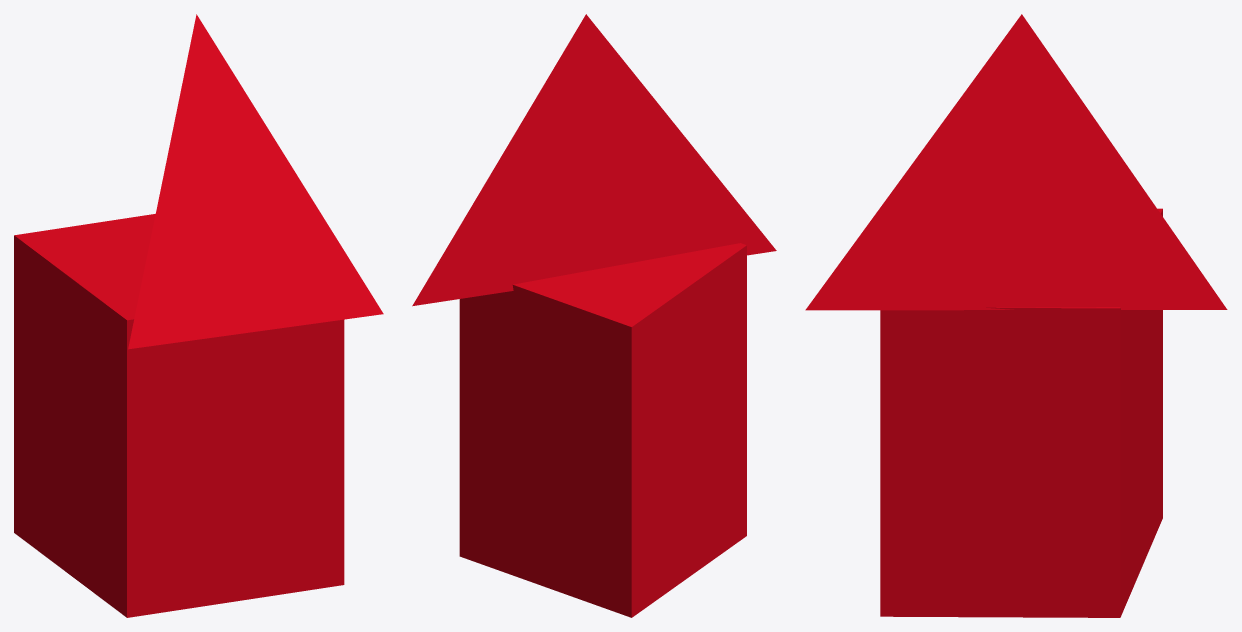
Rendered from Arrows_for_level_1.fbx.
The picture shows the model from 3 angles, left to right: view 1: azimuth 30°, elevation 25°; view 2: azimuth 150°, elevation 25°; view 3: azimuth 270°, elevation 25°; orthographic projection. The views are drawn at different scales.
Visible parts, largest first — view 1: Cylinder, Cone; view 2: Cylinder, Cone; view 3: Cylinder, Cone.
Boxes of the visible parts, x1,y1,x2,y2 form: Cylinder: (14, 214, 344, 617); Cone: (128, 14, 383, 349); Cylinder: (459, 243, 746, 617); Cone: (412, 14, 776, 306); Cylinder: (880, 208, 1162, 617); Cone: (805, 14, 1227, 310).
Bounding box in the file's own units: 361 × 868 × 591.
